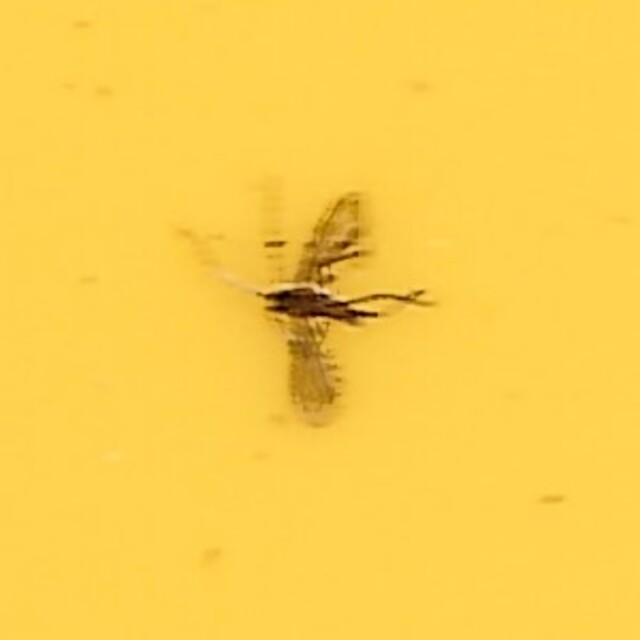Nematocera: (213, 196, 427, 444)
